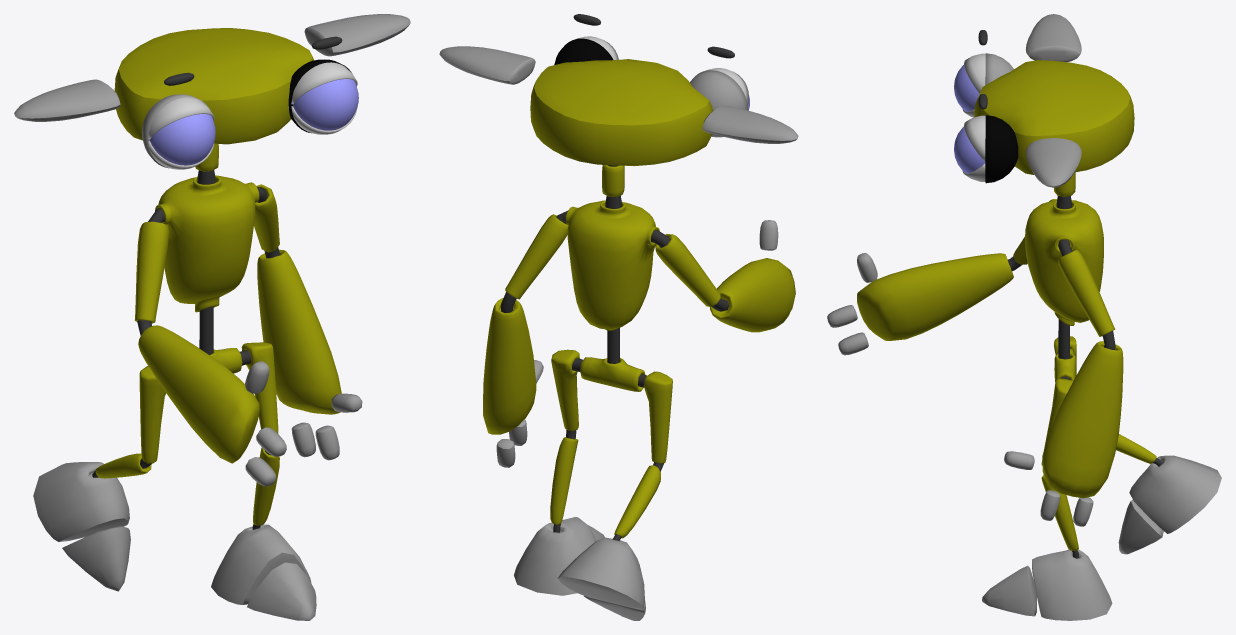
Rendered from walk2.obj.
3 renders of one model, left to right at view 1: azimuth 30°, elevation 25°; view 2: azimuth 150°, elevation 25°; view 3: azimuth 270°, elevation 25°, orthographic. The views are drawn at different scales.
Visible parts, largest first — view 1: Mesh polySurface50, Mesh polySurface41, Mesh polySurface18, Mesh polySurface37, Mesh polySurface26, Mesh polySurface48, Mesh polySurface10, Mesh polySurface8, Mesh polySurface24, Mesh polySurface38, Mesh polySurface47, Mesh polySurface22 (+19 smaller); view 2: Mesh polySurface41, Mesh polySurface50, Mesh polySurface48, Mesh polySurface18, Mesh polySurface37, Mesh polySurface10, Mesh polySurface26, Mesh polySurface47, Mesh polySurface51, Mesh polySurface28, Mesh polySurface38, Mesh polySurface44 (+10 smaller); view 3: Mesh polySurface18, Mesh polySurface50, Mesh polySurface37, Mesh polySurface41, Mesh polySurface26, Mesh polySurface10, Mesh polySurface48, Mesh polySurface44, Mesh polySurface51, Mesh polySurface4, Mesh polySurface8, Mesh polySurface47 (+10 smaller).
Boxes of the visible parts, x1=… form: Mesh polySurface50: x1=119, y1=28, x2=312, y2=100; Mesh polySurface41: x1=155, y1=175, x2=259, y2=312; Mesh polySurface18: x1=257, y1=249, x2=341, y2=414; Mesh polySurface37: x1=138, y1=325, x2=259, y2=463; Mesh polySurface26: x1=33, y1=462, x2=129, y2=541; Mesh polySurface48: x1=114, y1=54, x2=313, y2=144; Mesh polySurface10: x1=211, y1=524, x2=311, y2=604; Mesh polySurface8: x1=247, y1=562, x2=316, y2=620; Mesh polySurface24: x1=62, y1=526, x2=130, y2=591; Mesh polySurface38: x1=134, y1=221, x2=168, y2=323; Mesh polySurface47: x1=14, y1=79, x2=120, y2=118; Mesh polySurface22: x1=149, y1=114, x2=215, y2=165; Mesh polySurface41: x1=565, y1=200, x2=659, y2=330; Mesh polySurface50: x1=534, y1=59, x2=709, y2=125; Mesh polySurface48: x1=530, y1=81, x2=712, y2=165; Mesh polySurface18: x1=483, y1=298, x2=536, y2=434; Mesh polySurface37: x1=710, y1=258, x2=795, y2=332; Mesh polySurface10: x1=514, y1=517, x2=595, y2=595; Mesh polySurface26: x1=558, y1=537, x2=644, y2=608; Mesh polySurface47: x1=702, y1=105, x2=798, y2=140; Mesh polySurface51: x1=505, y1=214, x2=568, y2=299; Mesh polySurface28: x1=644, y1=371, x2=672, y2=463; Mesh polySurface38: x1=655, y1=234, x2=720, y2=306; Mesh polySurface44: x1=439, y1=46, x2=533, y2=81; Mesh polySurface18: x1=1042, y1=341, x2=1123, y2=498; Mesh polySurface50: x1=978, y1=60, x2=1129, y2=135; Mesh polySurface37: x1=857, y1=253, x2=1013, y2=340; Mesh polySurface41: x1=1025, y1=200, x2=1103, y2=325; Mesh polySurface26: x1=1129, y1=455, x2=1221, y2=533; Mesh polySurface10: x1=1032, y1=549, x2=1112, y2=620; Mesh polySurface48: x1=974, y1=92, x2=1134, y2=174; Mesh polySurface44: x1=1026, y1=138, x2=1081, y2=186; Mesh polySurface51: x1=1058, y1=249, x2=1114, y2=336; Mesh polySurface4: x1=985, y1=115, x2=1018, y2=183; Mesh polySurface8: x1=982, y1=566, x2=1034, y2=616; Mesh polySurface47: x1=1025, y1=14, x2=1081, y2=54.
Bounding box in the file's own units: 10.05 × 14.11 × 9.81.
